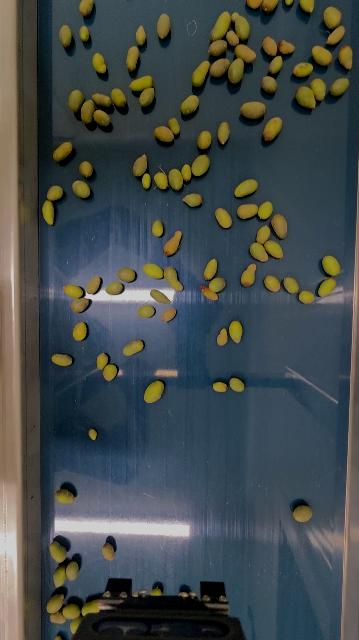Baby Potato: (210, 10, 232, 42), (295, 83, 318, 110), (232, 11, 252, 42), (262, 115, 284, 143), (191, 60, 212, 89), (239, 100, 268, 120), (143, 379, 166, 404), (163, 265, 184, 292), (311, 44, 335, 67), (163, 230, 183, 257), (228, 57, 247, 84), (321, 253, 342, 277), (271, 212, 289, 240), (52, 140, 73, 163), (323, 5, 343, 29), (235, 178, 259, 198), (109, 85, 129, 108), (235, 43, 258, 63), (192, 153, 211, 177), (129, 74, 154, 92), (338, 44, 355, 70), (241, 262, 258, 288), (330, 76, 351, 97), (210, 57, 231, 78), (327, 24, 347, 46), (293, 503, 315, 523), (180, 94, 200, 116), (249, 241, 269, 263), (318, 276, 338, 298), (122, 338, 145, 357), (48, 540, 67, 563), (156, 12, 172, 39), (310, 77, 328, 101), (67, 88, 84, 113), (80, 98, 97, 123), (265, 238, 285, 259), (215, 207, 233, 230), (126, 45, 141, 72), (41, 199, 56, 226), (168, 166, 184, 191), (71, 179, 91, 199), (46, 592, 65, 613), (208, 38, 229, 57), (293, 61, 316, 78), (132, 153, 148, 177), (154, 125, 175, 143), (229, 319, 244, 344), (58, 24, 73, 49), (237, 203, 259, 220), (203, 258, 219, 281), (150, 288, 173, 304), (92, 51, 108, 74), (217, 120, 231, 146), (138, 87, 156, 107), (196, 129, 213, 150), (143, 262, 164, 279), (53, 564, 67, 589), (51, 352, 74, 367), (62, 602, 81, 620), (264, 274, 282, 293), (93, 108, 111, 127), (256, 224, 273, 244), (262, 74, 279, 94), (262, 36, 279, 56), (284, 275, 301, 295), (258, 200, 274, 221), (63, 283, 84, 299), (54, 488, 75, 504), (92, 92, 113, 108), (46, 184, 64, 202), (117, 266, 136, 283), (72, 321, 88, 341), (183, 192, 203, 208), (70, 297, 90, 313), (269, 54, 284, 75), (65, 560, 79, 582), (154, 170, 169, 190), (279, 38, 296, 55), (82, 599, 99, 616), (209, 276, 227, 292), (135, 25, 148, 47), (105, 280, 124, 295), (137, 304, 156, 319), (229, 376, 246, 392), (79, 160, 94, 178), (103, 363, 118, 381), (298, 289, 316, 304), (200, 286, 219, 300), (259, 1, 281, 13), (88, 275, 101, 295), (79, 0, 95, 16), (152, 219, 165, 238), (96, 352, 110, 369), (226, 30, 240, 47), (168, 117, 181, 135), (102, 543, 115, 561), (217, 327, 229, 346), (162, 307, 177, 322), (69, 617, 82, 634), (49, 612, 67, 624), (181, 163, 192, 182), (212, 380, 229, 392), (246, 0, 266, 10), (300, 1, 316, 13), (79, 25, 90, 42), (141, 173, 152, 189), (88, 428, 98, 440), (151, 586, 162, 596), (285, 0, 296, 6)
